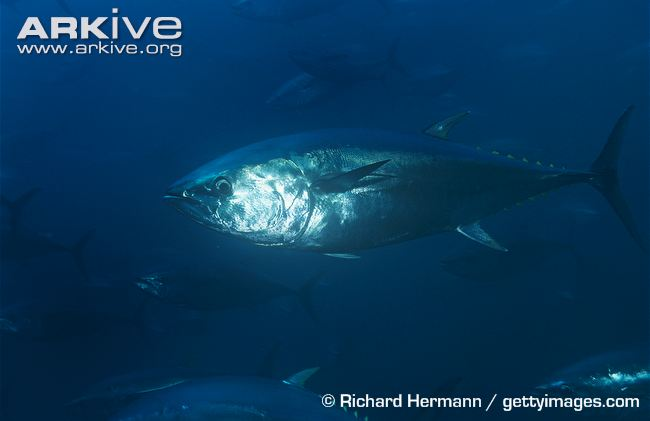Bluefina Tuna: (149, 127, 650, 255)
